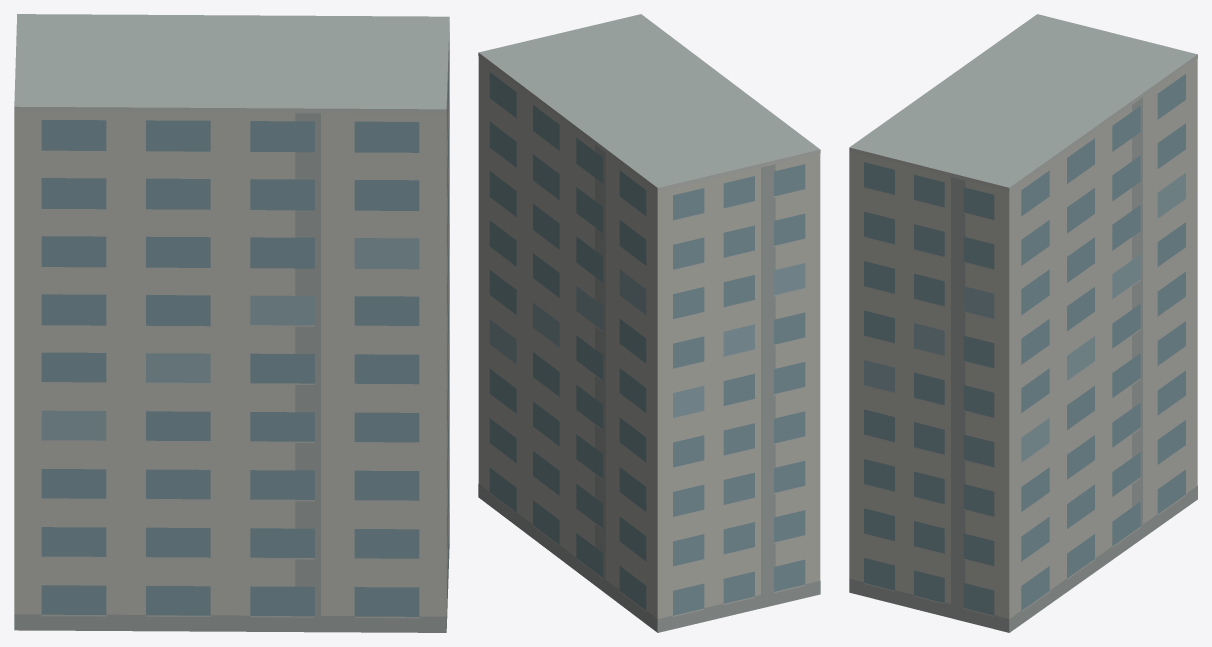
The model's file is residential-e478efb7-6fc5-48b7-8eeb-1a44f128831d.glb.
3 renders of one model, left to right at view 1: azimuth 30°, elevation 25°; view 2: azimuth 150°, elevation 25°; view 3: azimuth 270°, elevation 25°, orthographic. The views are drawn at different scales.
Visible parts, largest first — view 1: residential-e478efb7-6fc5-48b7-8eeb-1a44f128831d.tmp; view 2: residential-e478efb7-6fc5-48b7-8eeb-1a44f128831d.tmp; view 3: residential-e478efb7-6fc5-48b7-8eeb-1a44f128831d.tmp.
Part boxes in pixels (x1,y1,x2,y2): residential-e478efb7-6fc5-48b7-8eeb-1a44f128831d.tmp: (14, 14, 449, 632); residential-e478efb7-6fc5-48b7-8eeb-1a44f128831d.tmp: (478, 14, 820, 632); residential-e478efb7-6fc5-48b7-8eeb-1a44f128831d.tmp: (849, 14, 1197, 632).
Size of the model in its own units: 22.62 by 27 by 19.17.
